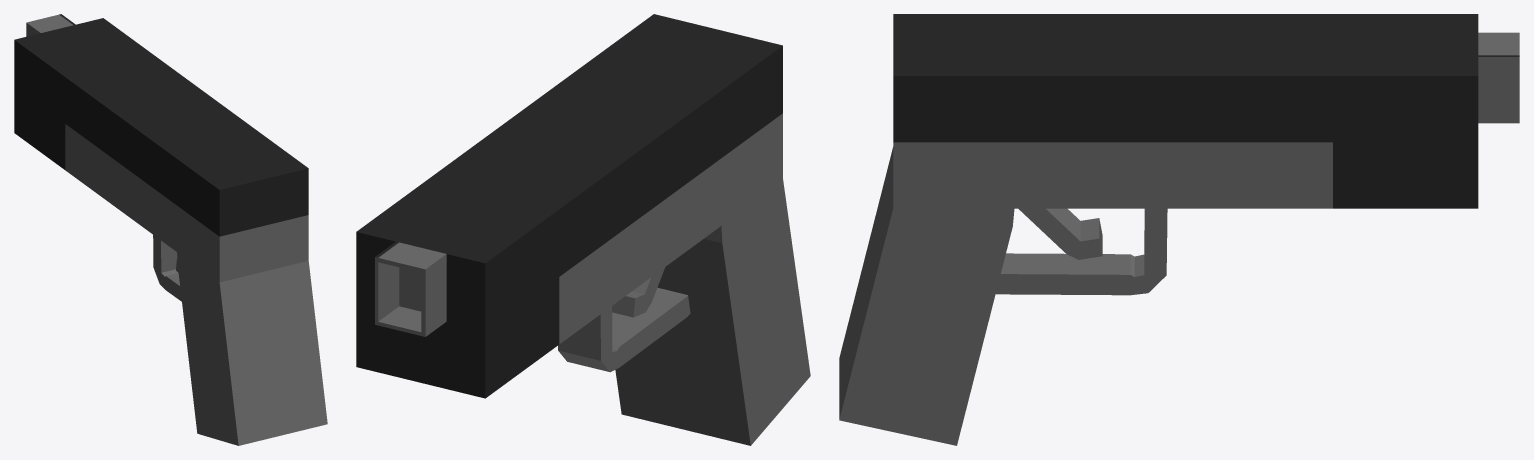
The model's file is gun.fbx.
3 renders of one model, left to right at view 1: azimuth 30°, elevation 25°; view 2: azimuth 150°, elevation 25°; view 3: azimuth 270°, elevation 25°, orthographic. The views are drawn at different scales.
Visible parts, largest first — view 1: Gun; view 2: Gun; view 3: Gun.
Boxes of the visible parts, x1=… form: Gun: x1=14, y1=14, x2=327, y2=445; Gun: x1=356, y1=14, x2=810, y2=445; Gun: x1=839, y1=14, x2=1519, y2=445.
Bounding box in the file's own units: 200 × 557 × 929.
